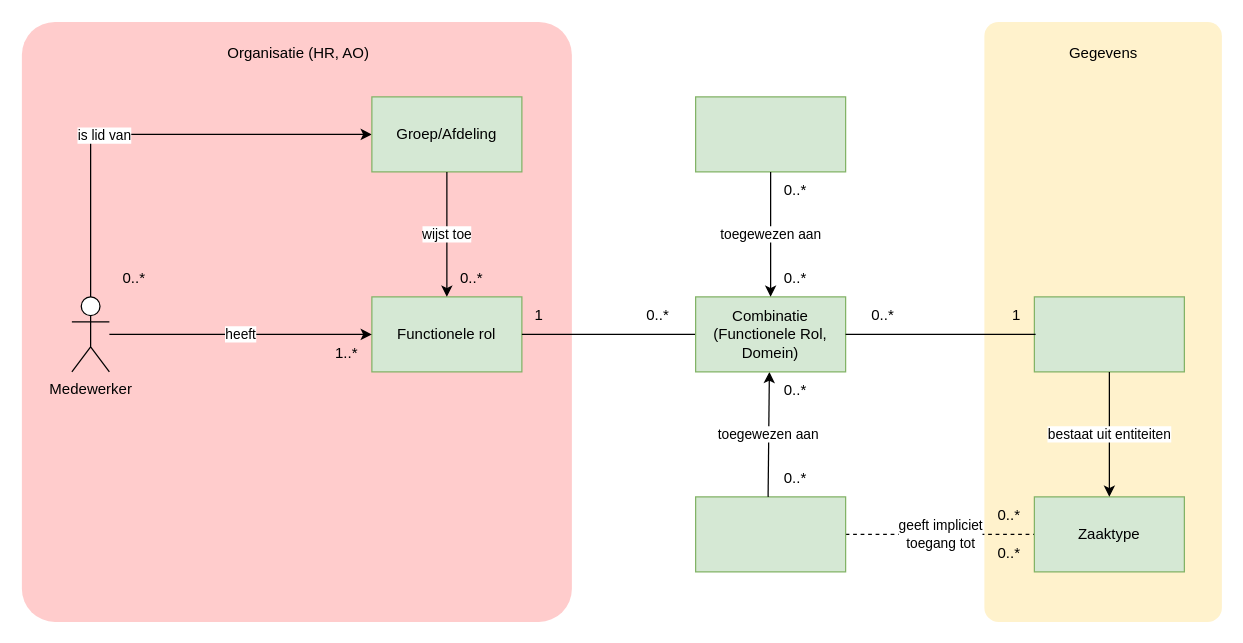
Some shapes in this 1243 by 643 pixel diagram are drawn without their labels. Each missing label, with the centre of its shape:
"Applicatierol" goes at pixel 770 534.
"Datarol" goes at pixel 770 134.
"Domein" goes at pixel 1108 334.
